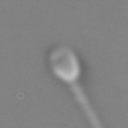abnormal: (69, 79, 104, 127)
